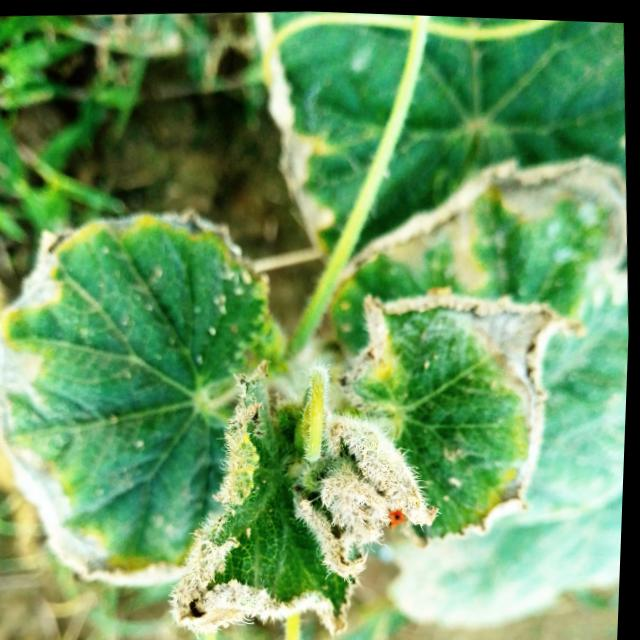Gummy-Stem-Blight: (333, 291, 586, 538)
